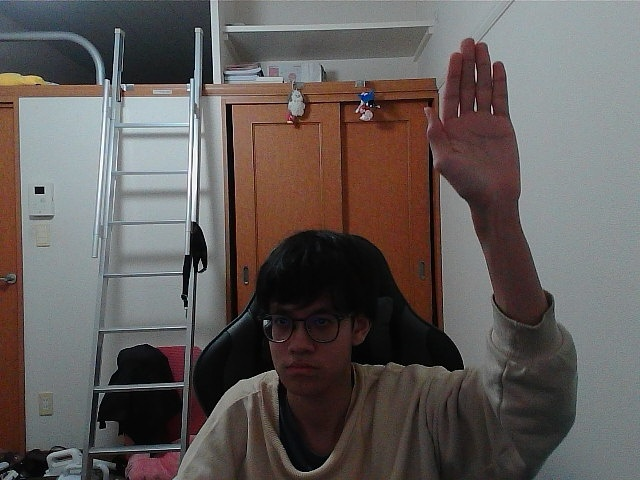open_palm: (430, 46, 503, 198)
